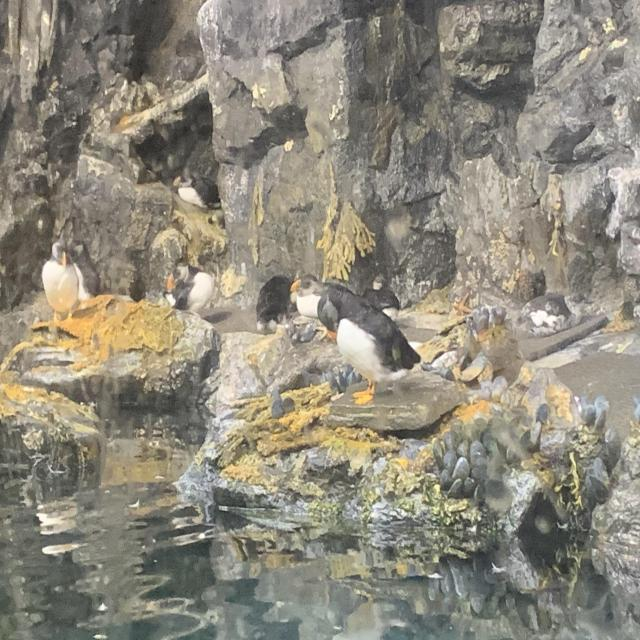puffin: (326, 295, 422, 411), (290, 274, 369, 333), (40, 238, 82, 326), (163, 260, 215, 320), (172, 169, 223, 215), (69, 236, 103, 304), (361, 274, 401, 326)
